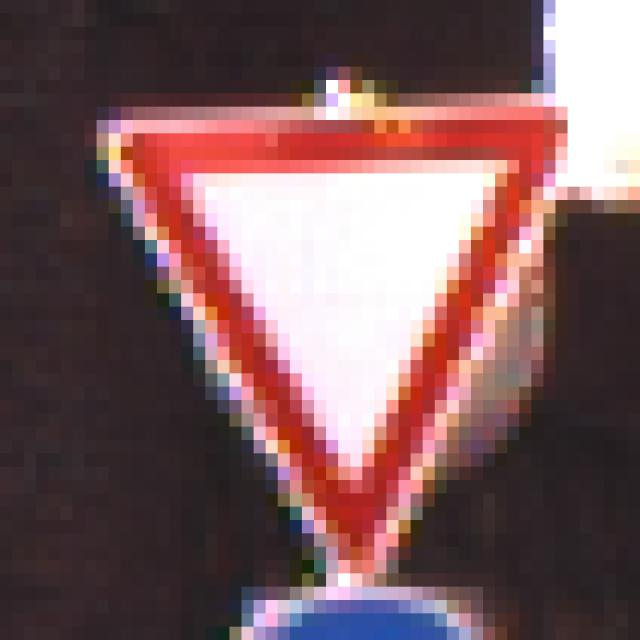Give Way: (74, 81, 569, 574)
